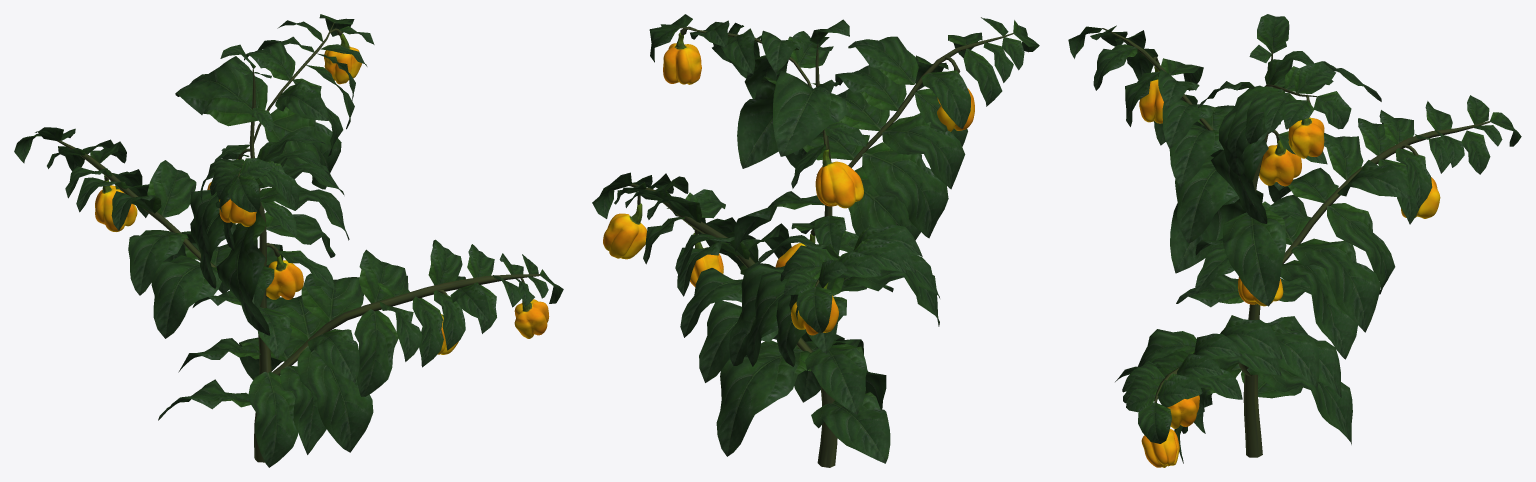
Rendered from pepper.glb.
3 views of the same model, side by side, from view 1: azimuth 30°, elevation 25°; view 2: azimuth 150°, elevation 25°; view 3: azimuth 270°, elevation 25° (orthographic). The views are drawn at different scales.
Parts seen in each view (by area): view 1: Pepper_02; view 2: Pepper_02; view 3: Pepper_02.
Part boxes in pixels (left/top/right/bottom): Pepper_02: left=14, top=14, right=563, bottom=467; Pepper_02: left=592, top=14, right=1039, bottom=467; Pepper_02: left=1068, top=14, right=1521, bottom=467.
Bounding box in the file's own units: 0.9888 × 1 × 0.9568.
3 materials, 3 textured.
